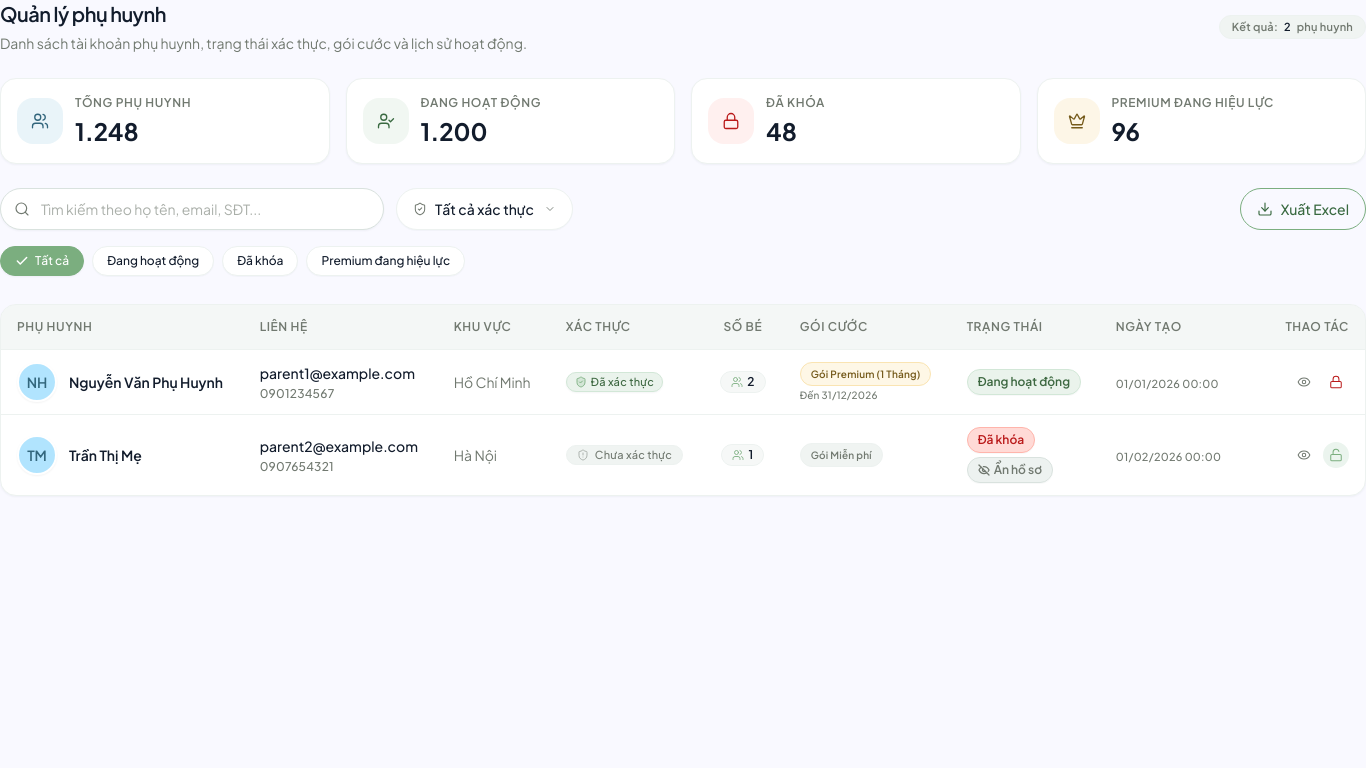
Test case: AdminUserManagementPage › reloads the open detail drawer after locking from it
This screenshot has width=1366, height=768.
Click the text "Nguyễn Văn Phụ Huynh": {"x": 146, "y": 382} [69, 371, 223, 393]
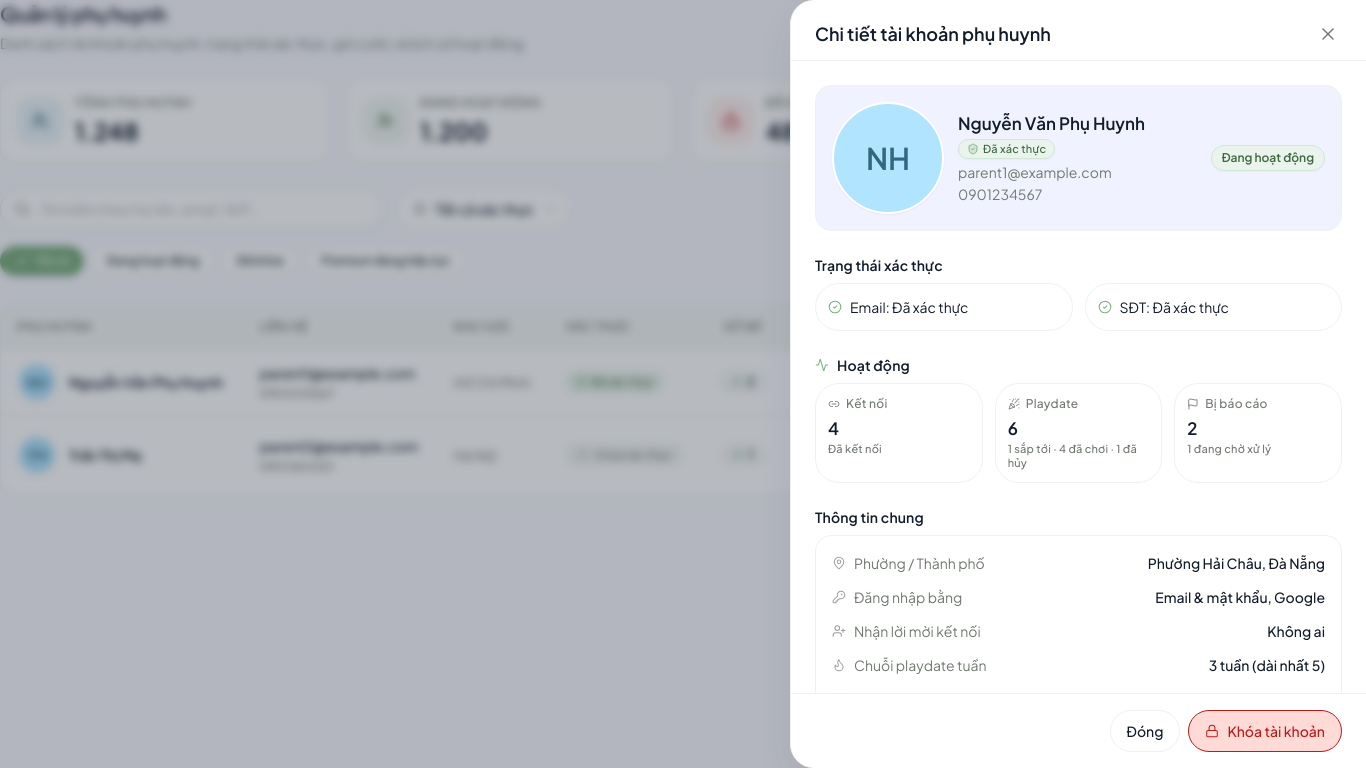
Click the button "Khóa tài khoản": {"x": 1265, "y": 731} [1188, 710, 1342, 752]
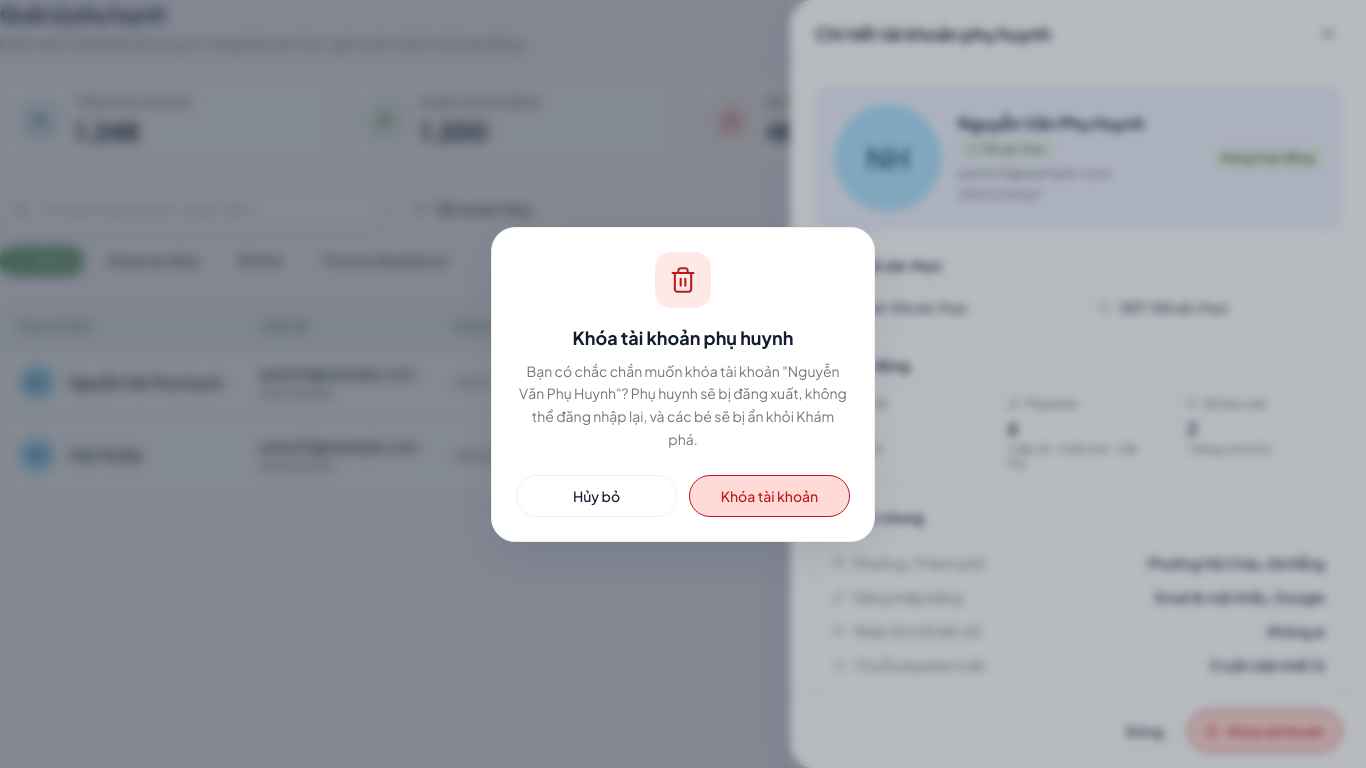
Click the button "Khóa tài khoản": {"x": 770, "y": 496} [689, 474, 850, 516]
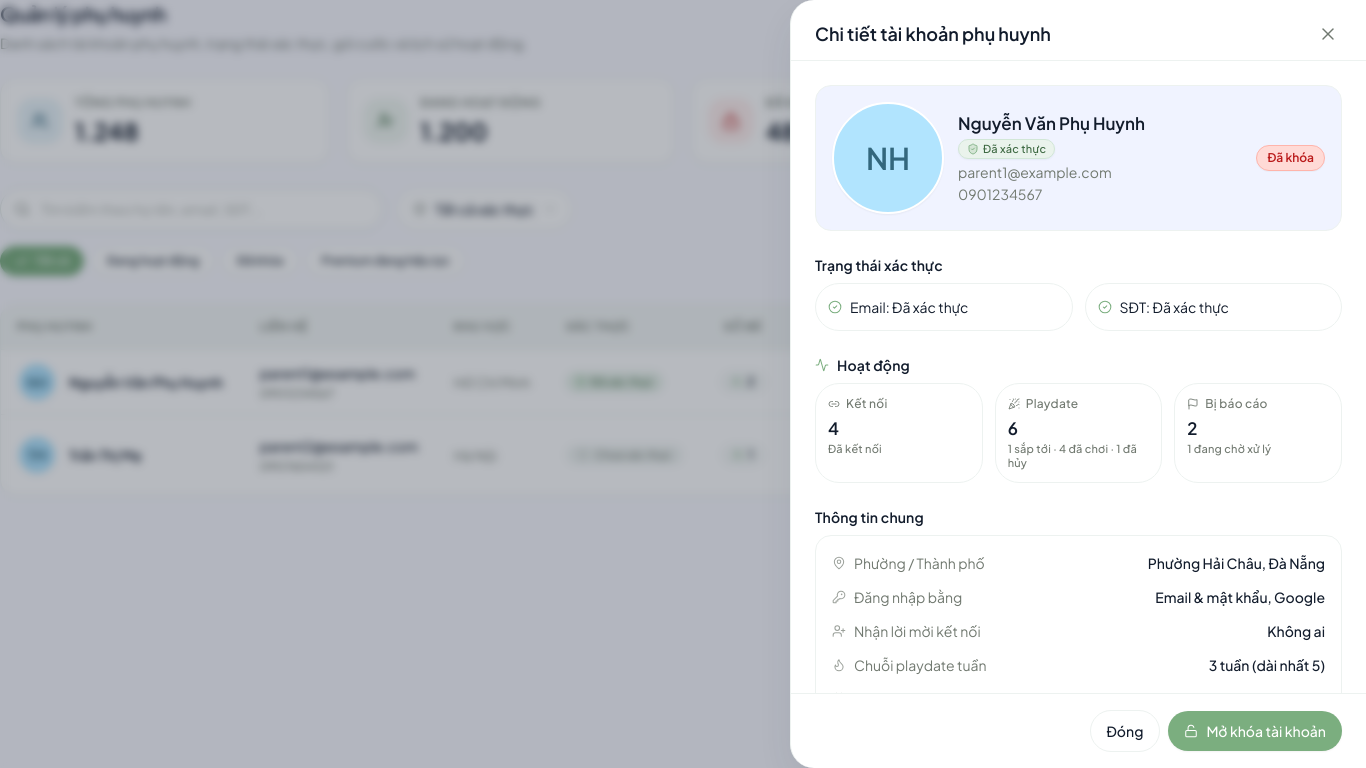
Result: the button "Mở khóa tài khoản" is shown at [1168, 711, 1342, 751]
